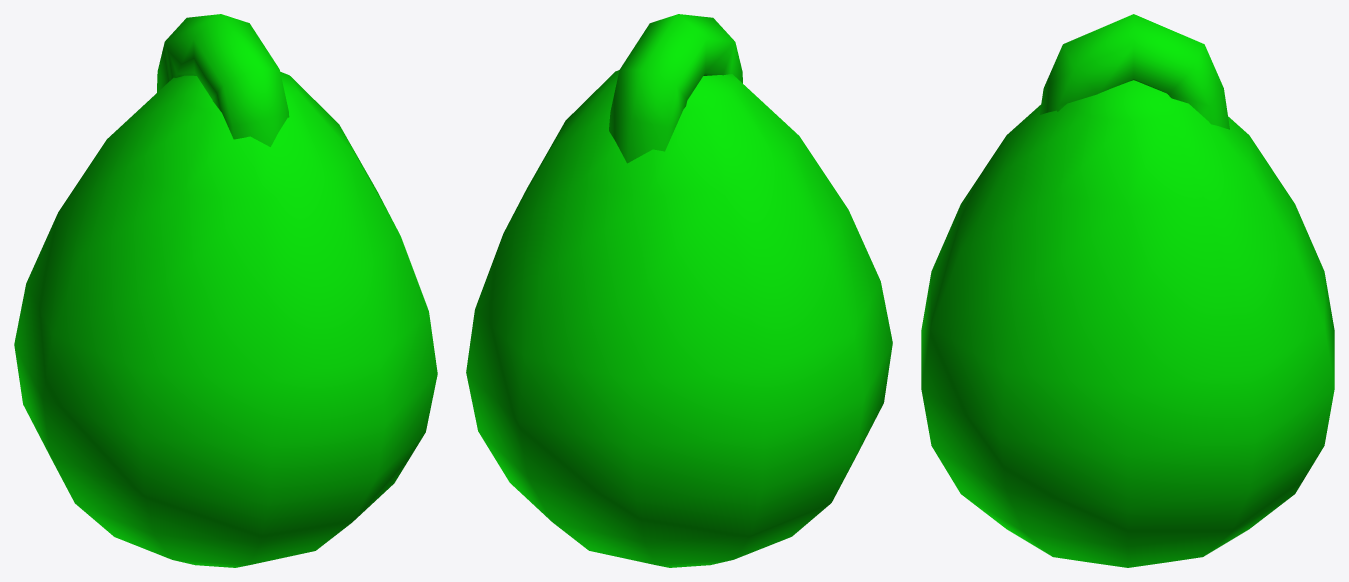
File: Bouy.fbx
The picture shows the model from 3 angles, left to right: view 1: azimuth 30°, elevation 25°; view 2: azimuth 150°, elevation 25°; view 3: azimuth 270°, elevation 25°; orthographic projection.
Visible parts, largest first — view 1: Bouy; view 2: Bouy; view 3: Bouy.
Part boxes in pixels (box(x1,y1,x2,y2)): Bouy: box(14, 14, 437, 567); Bouy: box(466, 14, 892, 567); Bouy: box(921, 14, 1334, 567).
Bounding box in the file's own units: 0.3682 × 0.5125 × 0.3586.
